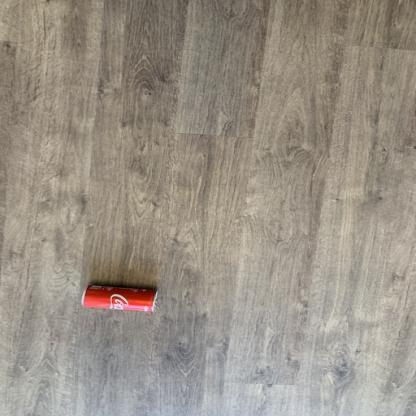Aerosols: (66, 278, 185, 320)
